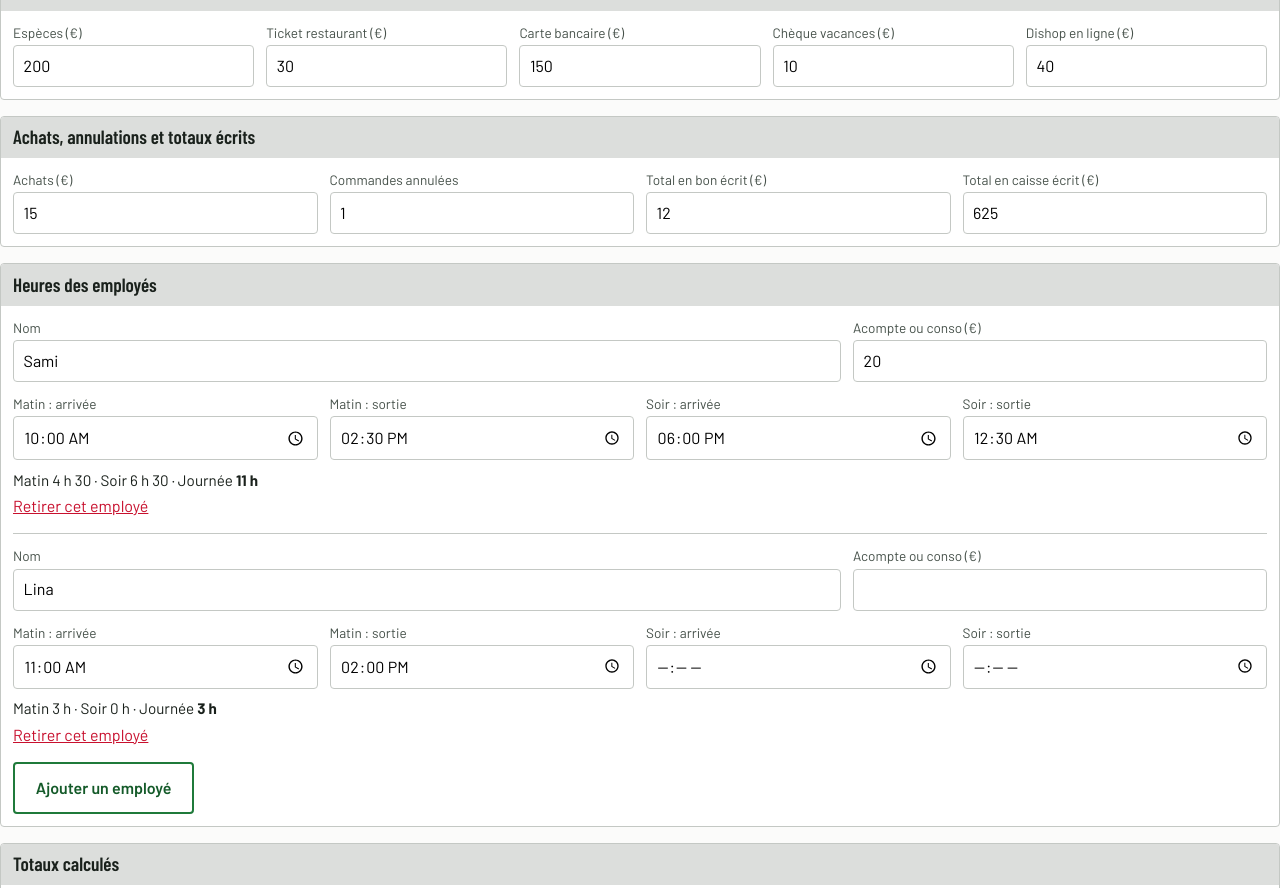
Test: FicheForm › heure de sortie oubliée : « Une heure est manquante »
(page scrolled)
Expected: the text "Une heure est manquante" is not shown
Clear the 1st time field labelled "Matin : sortie": [482, 438] box [330, 416, 634, 460]
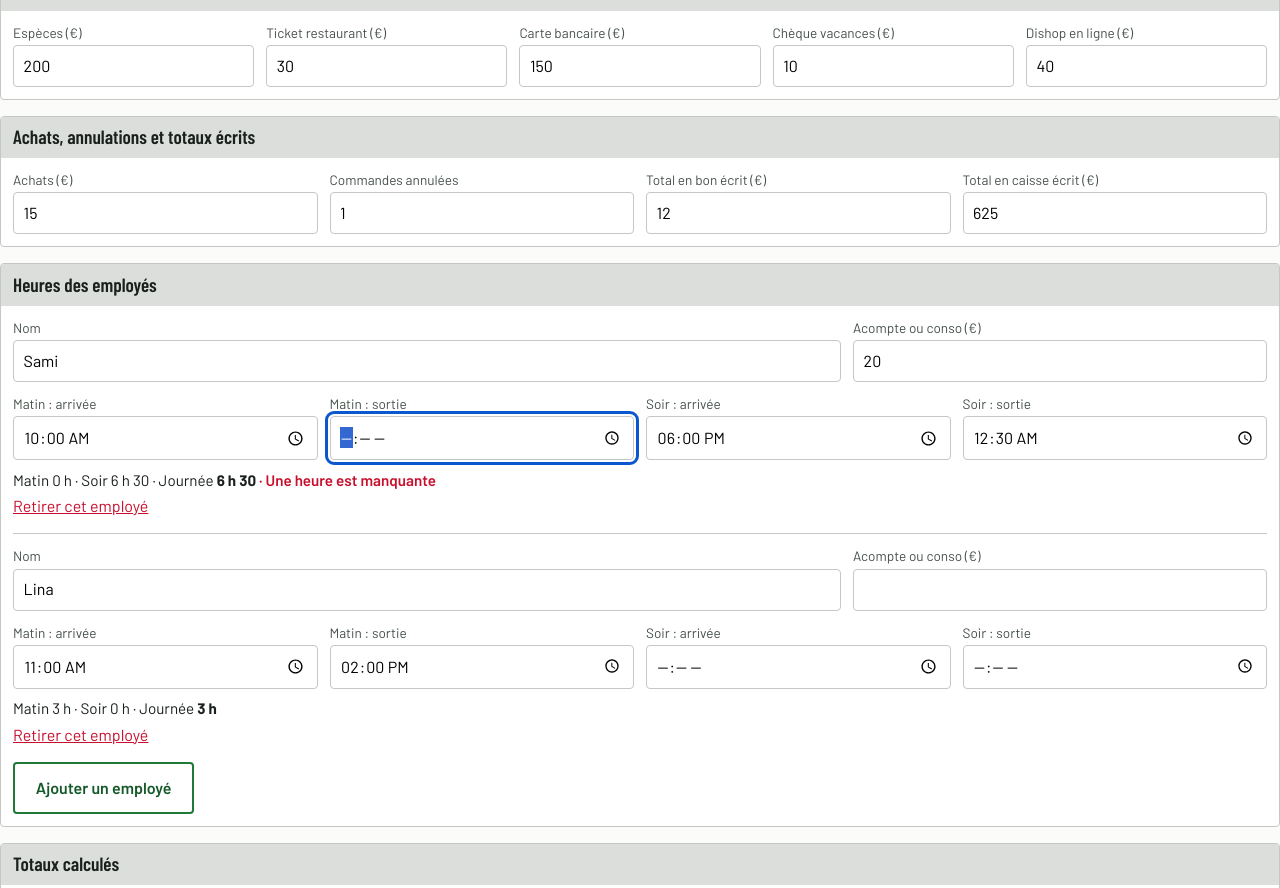
Now the text "· Une heure est manquante" is shown, box [256, 471, 436, 489]
